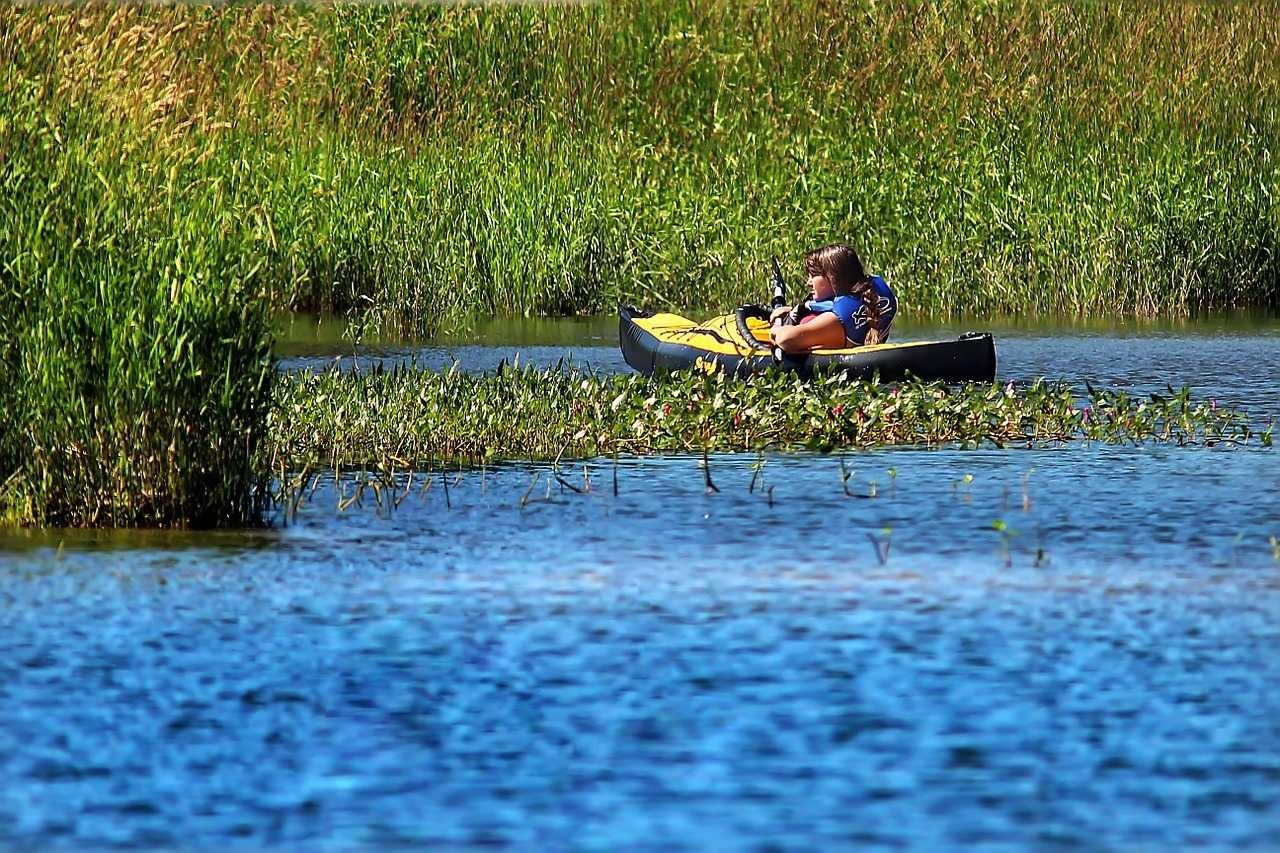kayak: (616, 304, 999, 386)
